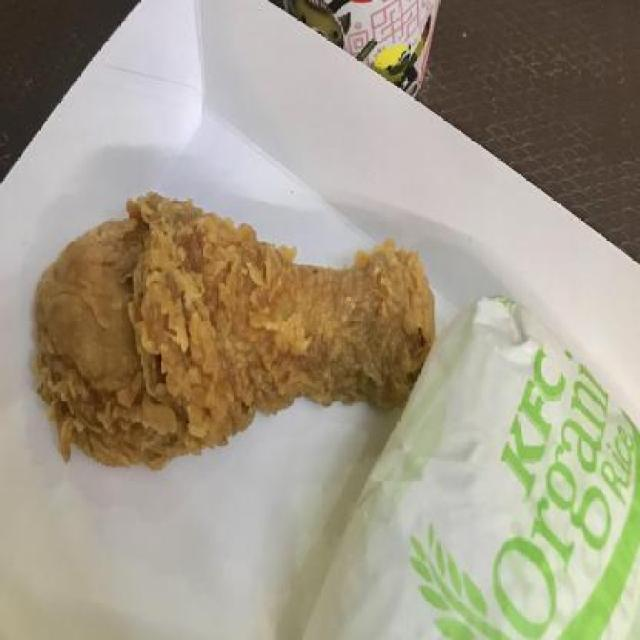Chicken -Fried Chicken-: (31, 193, 437, 475)
